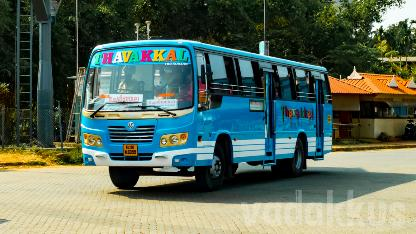bus: (76, 23, 338, 198)
